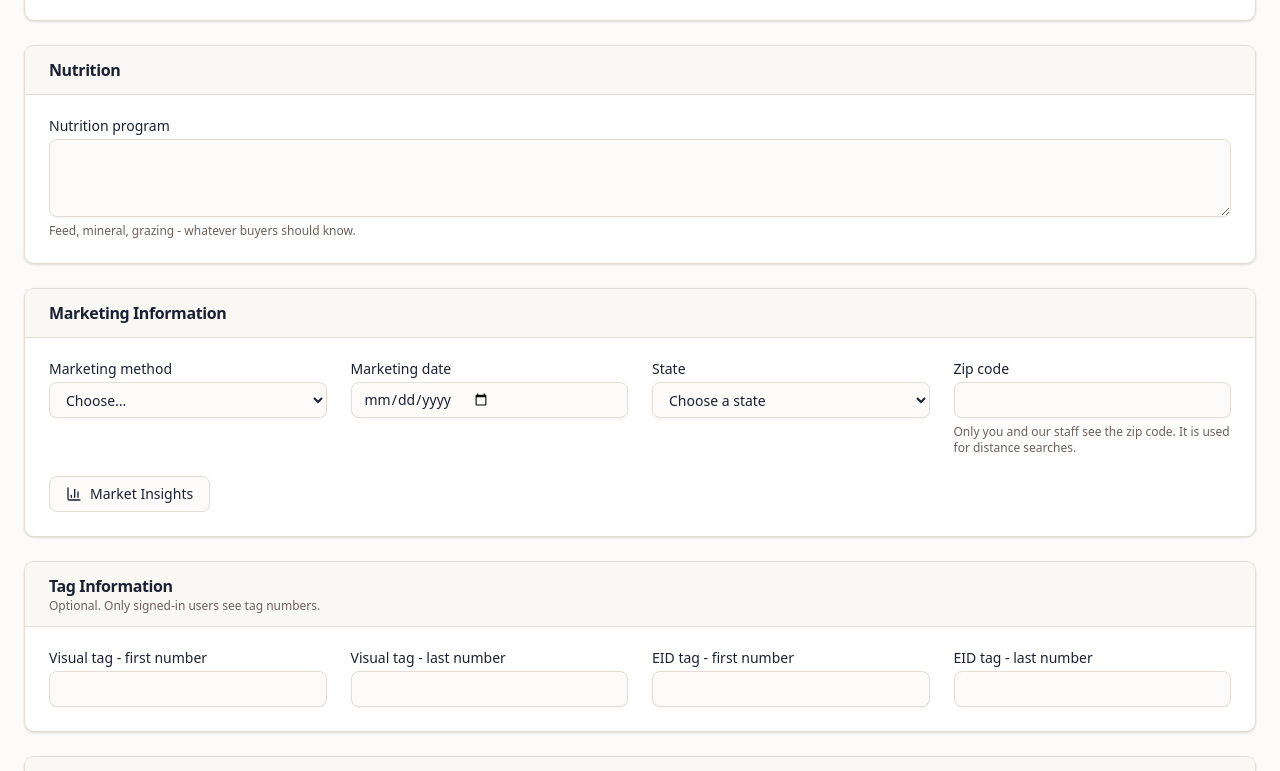
Test: auction market fills in the location › a market with no zip on file keeps the boxes and says why
(page scrolled)
Select "Auction" in the dropdown labelled "Marketing method". click: (188, 400)
box: top-left (49, 382), bottom-right (326, 418)
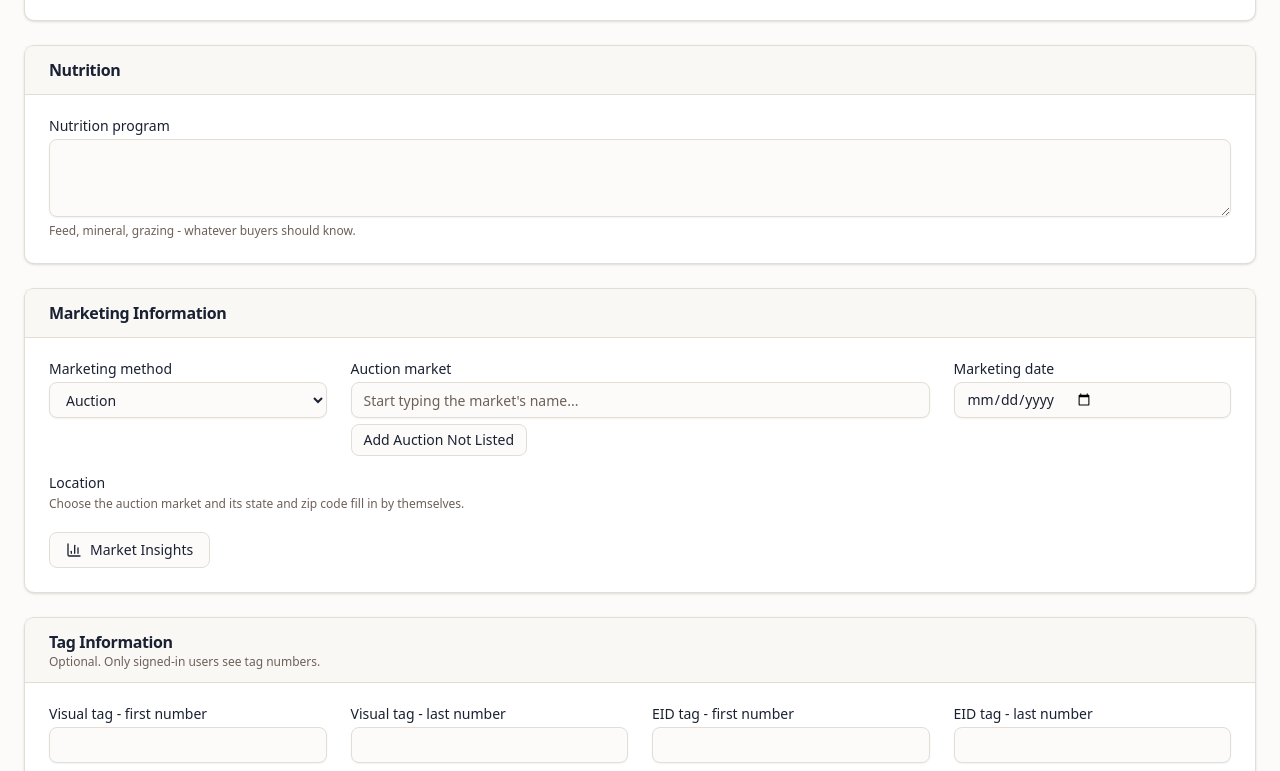
Type "Bry" into the field labelled "Auction market". click: (640, 400)
box: top-left (350, 382), bottom-right (930, 418)
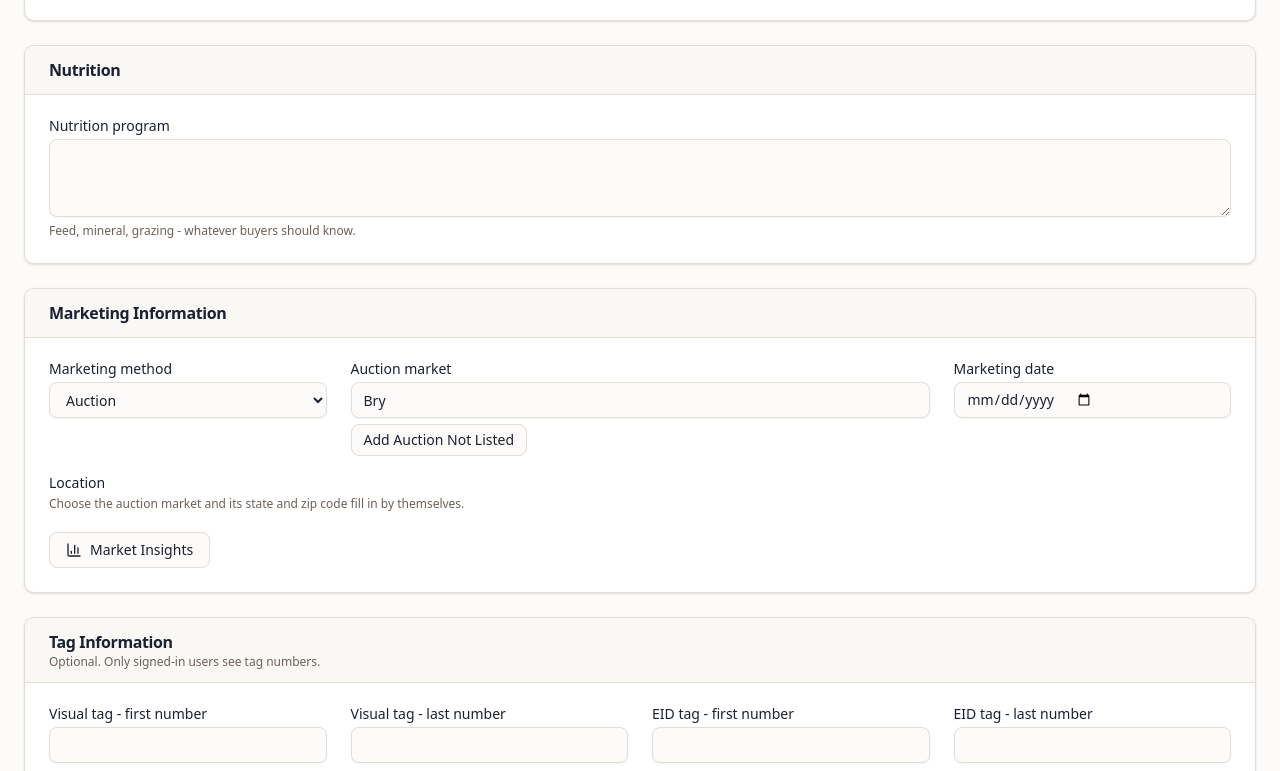
Replace the text in the field labelled "Auction market" with "Bryan No Zip Market". click: (640, 400)
box: top-left (350, 382), bottom-right (930, 418)
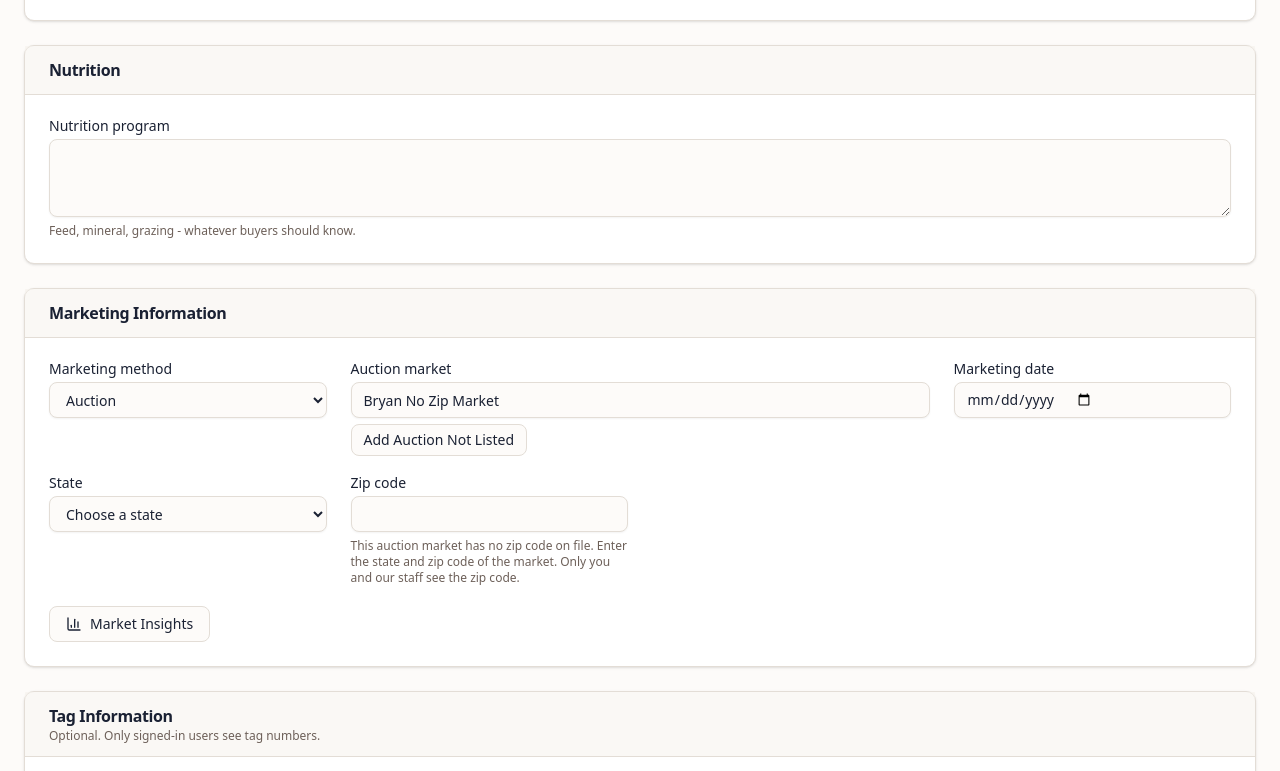
Expected: the text "no zip code on file" is shown, top-left (350, 537), bottom-right (627, 586)
Expected: the field labelled "Zip code" is empty, top-left (350, 496), bottom-right (628, 532)
Expected: the dropdown labelled "State" shows "Choose a state", top-left (49, 496), bottom-right (326, 532)
